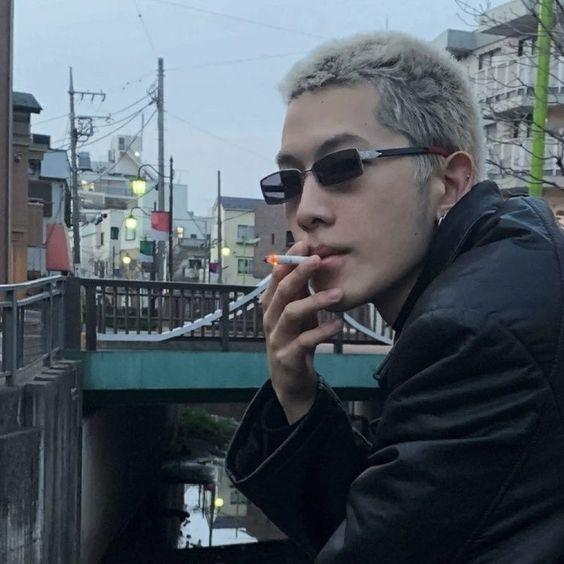cigarette: (264, 254, 308, 265)
